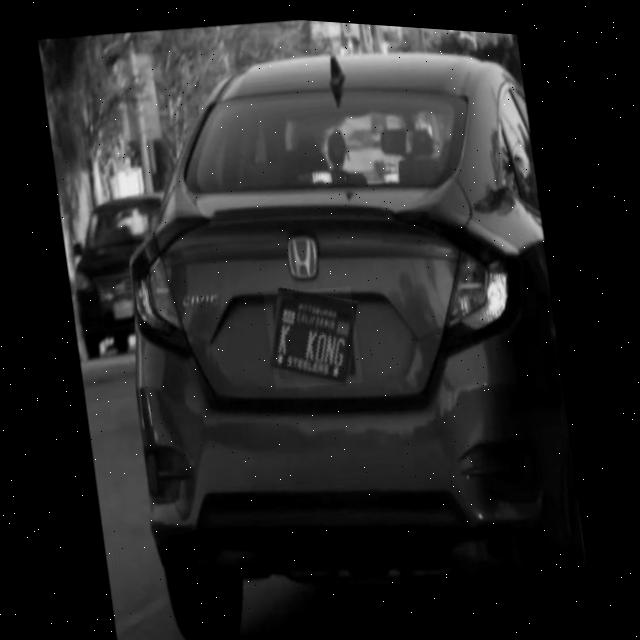LicensePlate: (263, 277, 364, 389)
